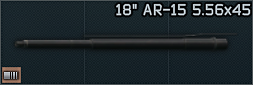AR-15 5.56x45 18 inch barrel: (0, 0, 253, 85)
